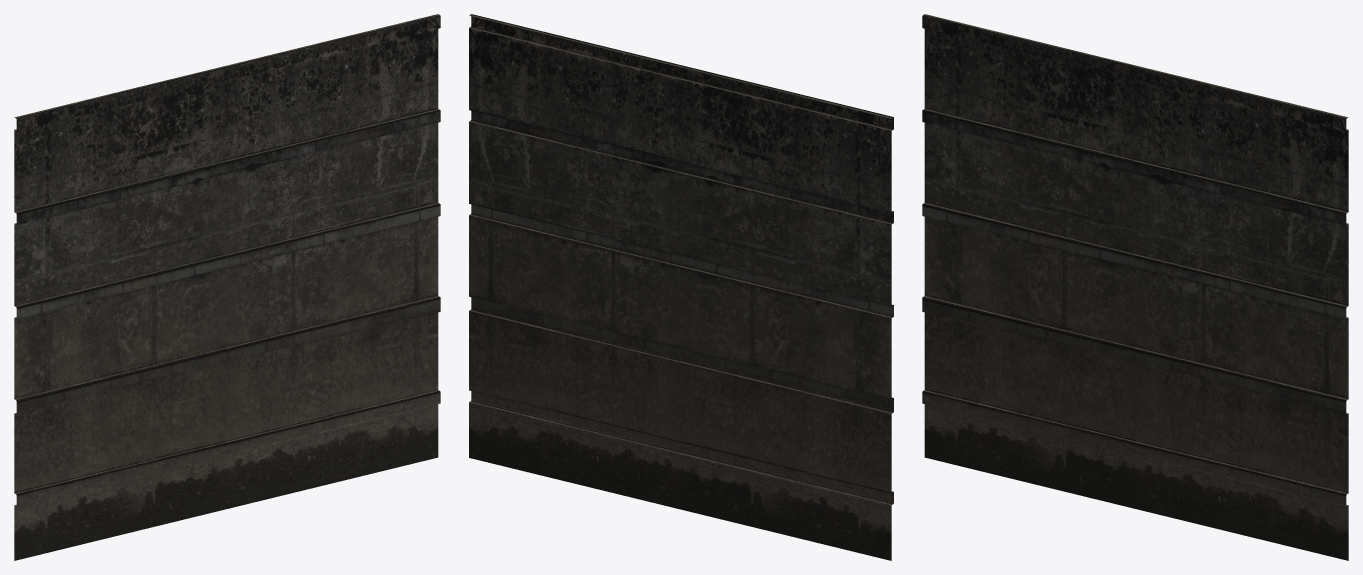
The model's file is tunnel_wall.DAE.
The picture shows the model from 3 angles, left to right: view 1: azimuth 30°, elevation 25°; view 2: azimuth 150°, elevation 25°; view 3: azimuth 330°, elevation 25°; orthographic projection.
Visible parts, largest first — view 1: tunnels_wall; view 2: tunnels_wall; view 3: tunnels_wall.
Part boxes in pixels (<box>): tunnels_wall: <box>14,14,440,560</box>; tunnels_wall: <box>469,14,893,560</box>; tunnels_wall: <box>922,14,1348,560</box>.
Size of the model in its own units: 4 by 0.039 by 4.
